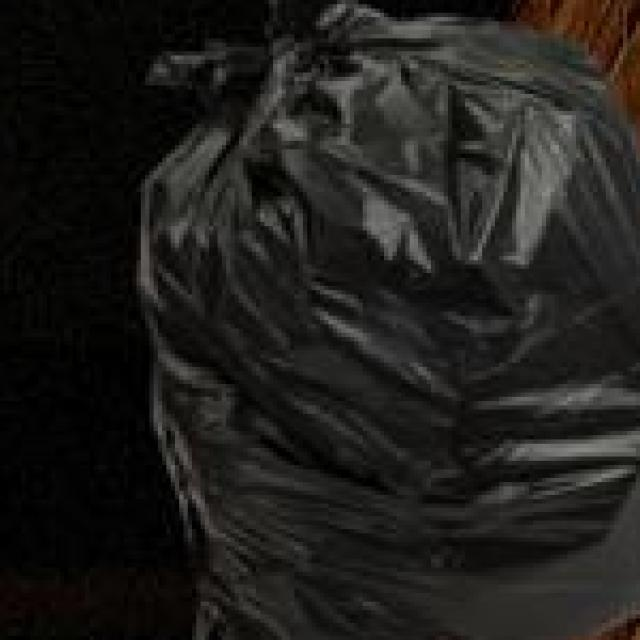Trashbag: (116, 2, 640, 640)
